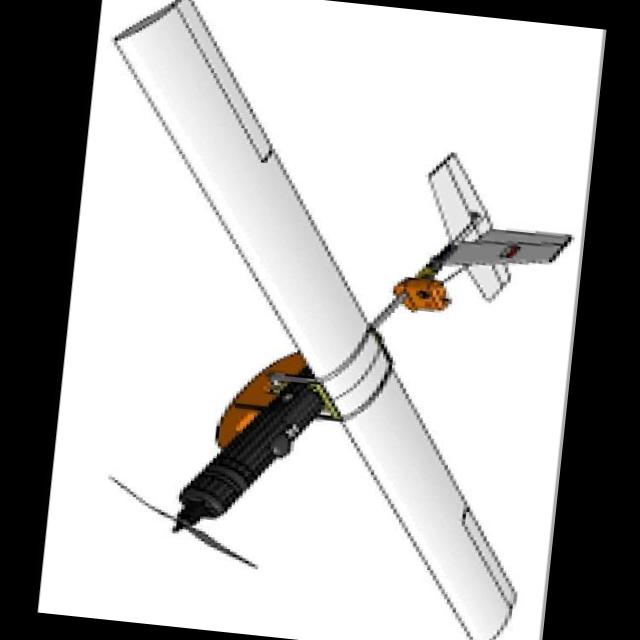UAV: (87, 36, 585, 640)
